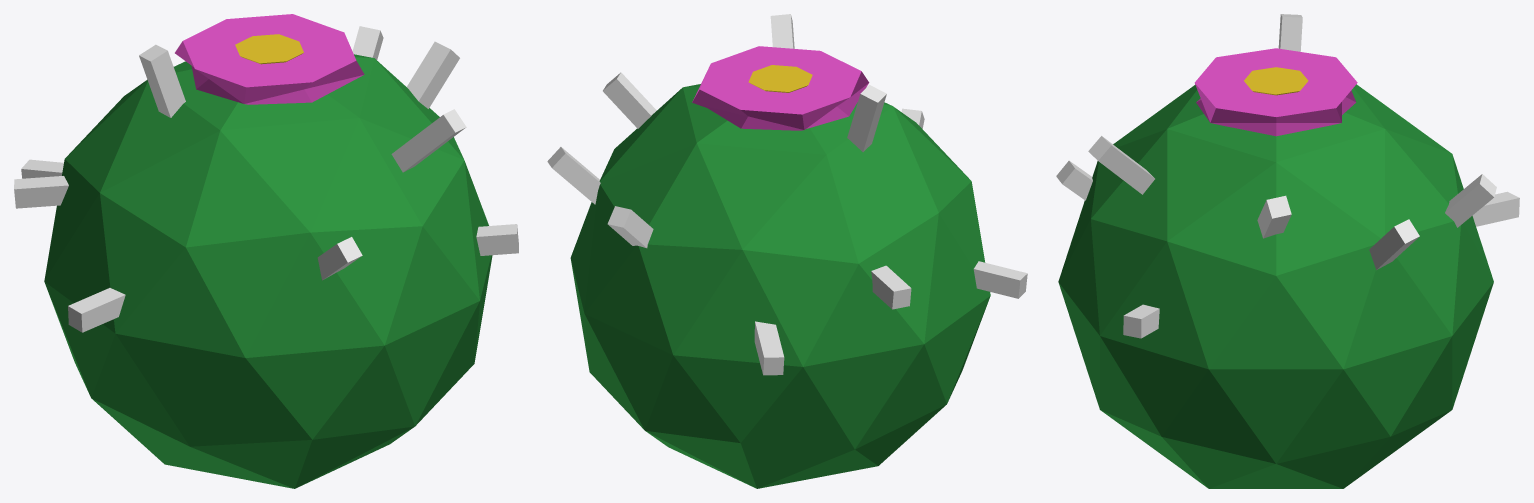
Rendered from cactus.fbx.
3 renders of one model, left to right at view 1: azimuth 30°, elevation 25°; view 2: azimuth 150°, elevation 25°; view 3: azimuth 270°, elevation 25°, orthographic. The views are drawn at different scales.
Visible parts, largest first — view 1: Icosphere; view 2: Icosphere; view 3: Icosphere.
Part boxes in pixels (left/top/right/bottom): Icosphere: left=14, top=14, right=518, bottom=488; Icosphere: left=547, top=14, right=1027, bottom=488; Icosphere: left=1056, top=14, right=1519, bottom=488.
Size of the model in its own units: 374 by 377 by 379.
